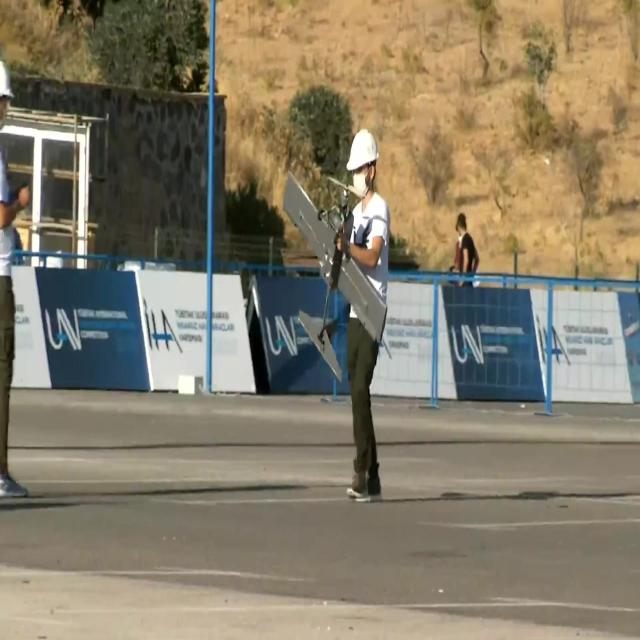iha: (314, 170, 356, 385)
